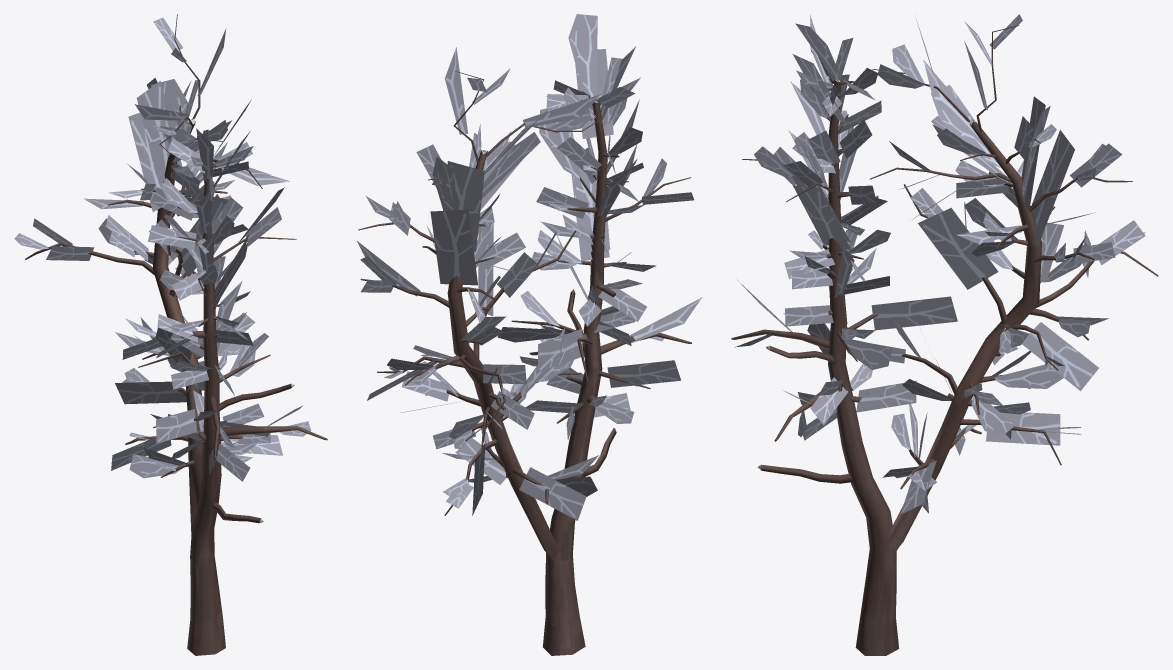
File: Birch_01.fbx
3 views of the same model, side by side, from view 1: azimuth 30°, elevation 25°; view 2: azimuth 150°, elevation 25°; view 3: azimuth 270°, elevation 25° (orthographic). The views are drawn at different scales.
Parts seen in each view (by area): view 1: LOD0; view 2: LOD0; view 3: LOD0.
Boxes of the visible parts, x1=… form: LOD0: x1=14, y1=14, x2=327, y2=655; LOD0: x1=357, y1=14, x2=702, y2=655; LOD0: x1=731, y1=14, x2=1158, y2=655.
Size of what is drawn, in the model's own units: 8.33 by 24.5 by 14.76.
